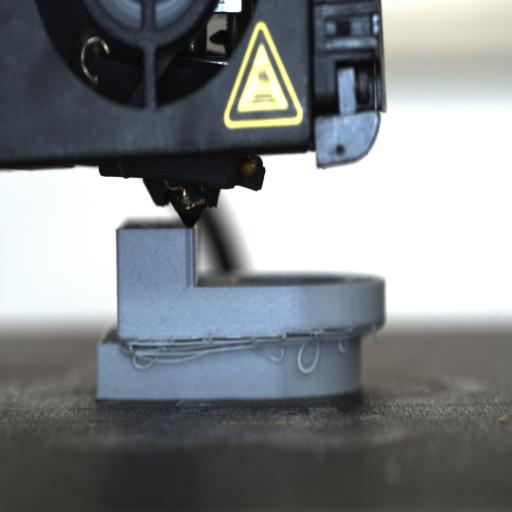layer_shift: (96, 322, 385, 351)
